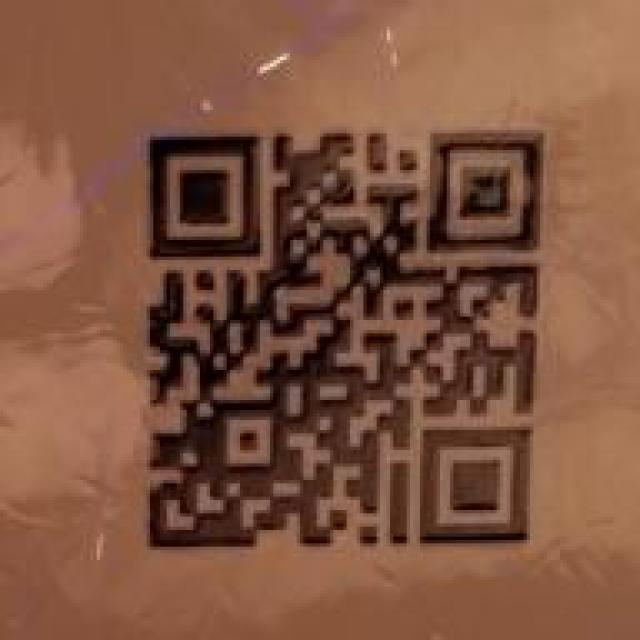qr_code: (146, 131, 540, 548)
